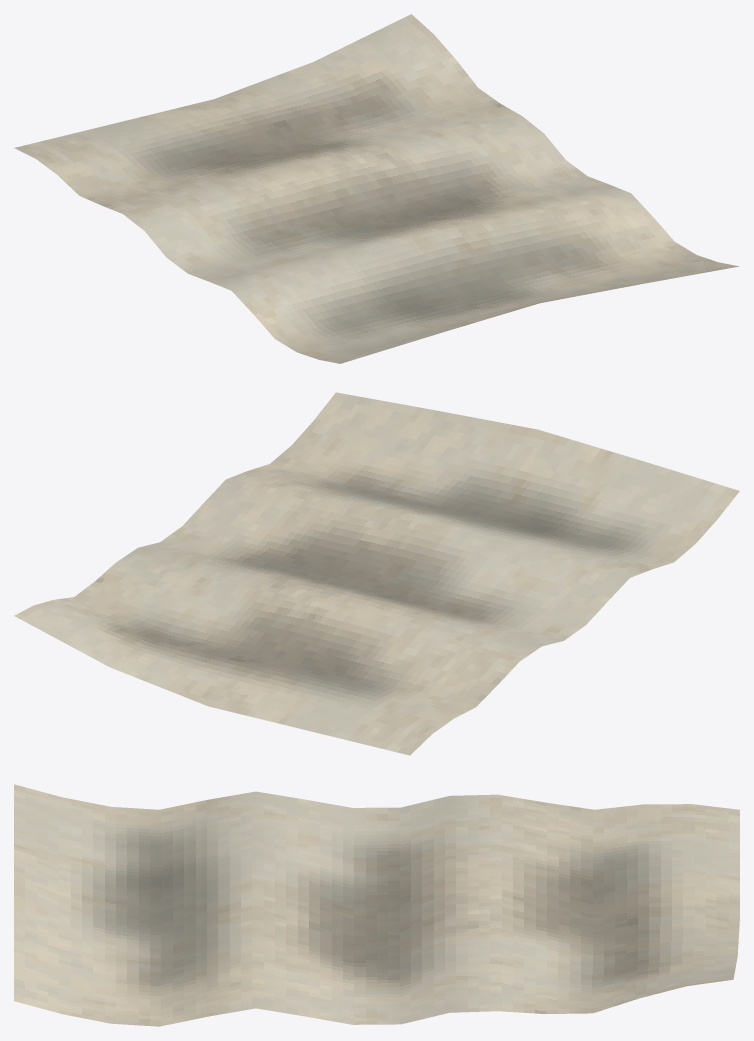
Rendered from ammomaker_FilterPaper.fbx.
3 renders of one model, top to bottom at view 1: azimuth 30°, elevation 25°; view 2: azimuth 150°, elevation 25°; view 3: azimuth 270°, elevation 25°, orthographic. The views are drawn at different scales.
Parts seen in each view (by area): view 1: ammomaker_FilterPaper; view 2: ammomaker_FilterPaper; view 3: ammomaker_FilterPaper.
Boxes of the visible parts, box(x1,y1,x2,y2) form: ammomaker_FilterPaper: box(14, 14, 739, 363); ammomaker_FilterPaper: box(14, 392, 739, 755); ammomaker_FilterPaper: box(14, 784, 739, 1026).
Bounding box in the file's own units: 8.04 × 0.7654 × 11.38.
